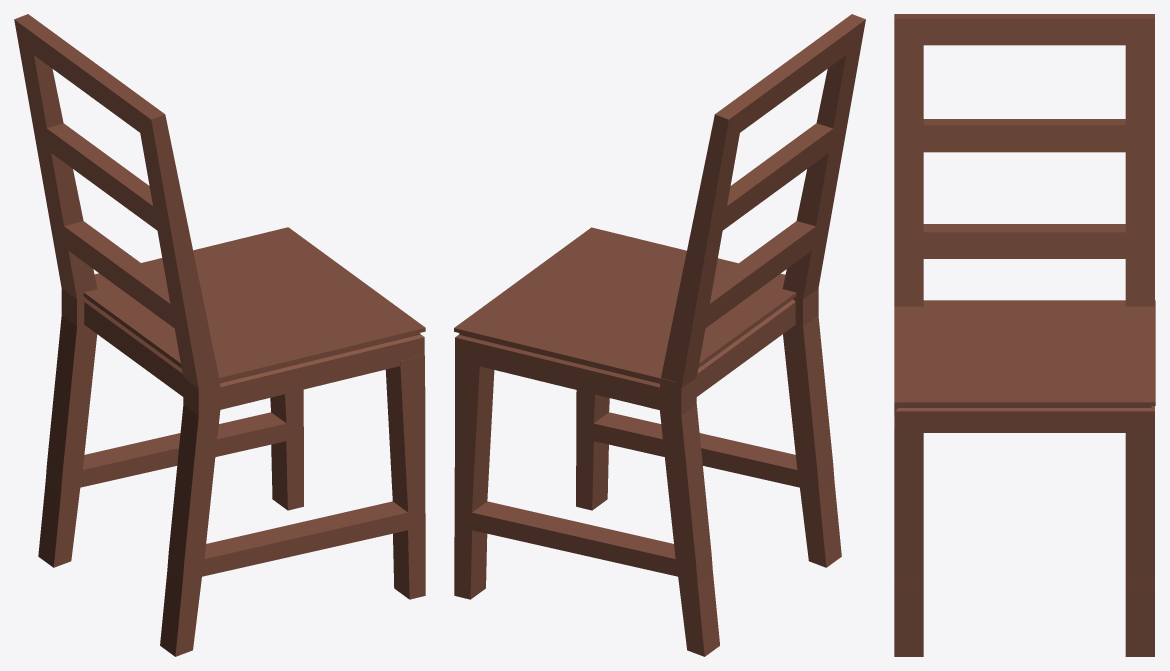
Rendered from Chaise (1).fbx.
3 renders of one model, left to right at view 1: azimuth 30°, elevation 25°; view 2: azimuth 150°, elevation 25°; view 3: azimuth 270°, elevation 25°, orthographic. The views are drawn at different scales.
Parts seen in each view (by area): view 1: Cube.001; view 2: Cube.001; view 3: Cube.001.
Part boxes in pixels (x1,y1,x2,y2): Cube.001: (14,14,425,656); Cube.001: (454,14,865,656); Cube.001: (894,14,1155,656).
Size of the model in its own units: 222 by 421 by 192.
